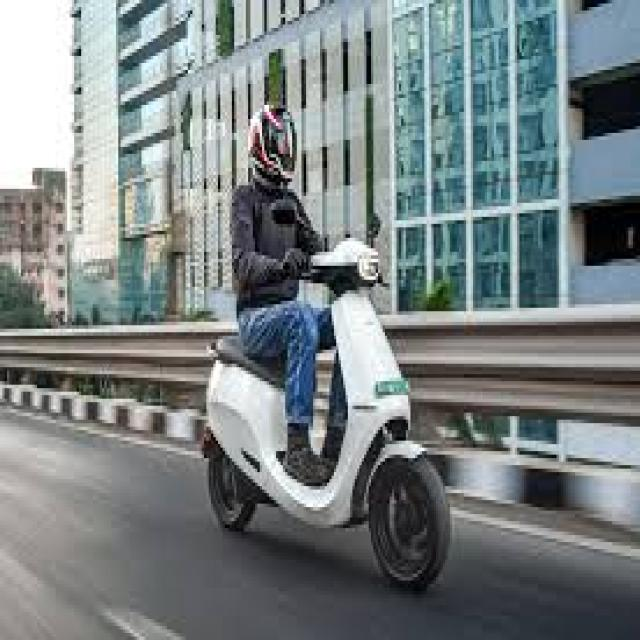Scooty: (196, 70, 461, 611)
